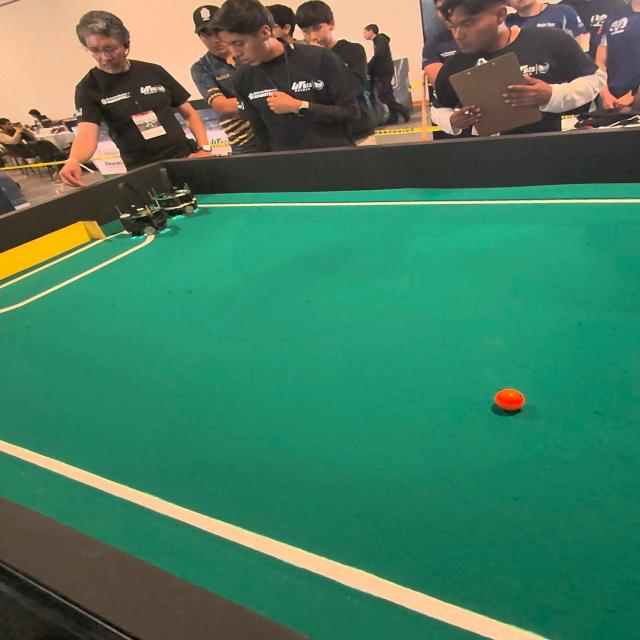Robot: (104, 176, 176, 247), (154, 163, 209, 222)
pelota: (493, 390, 528, 413)
